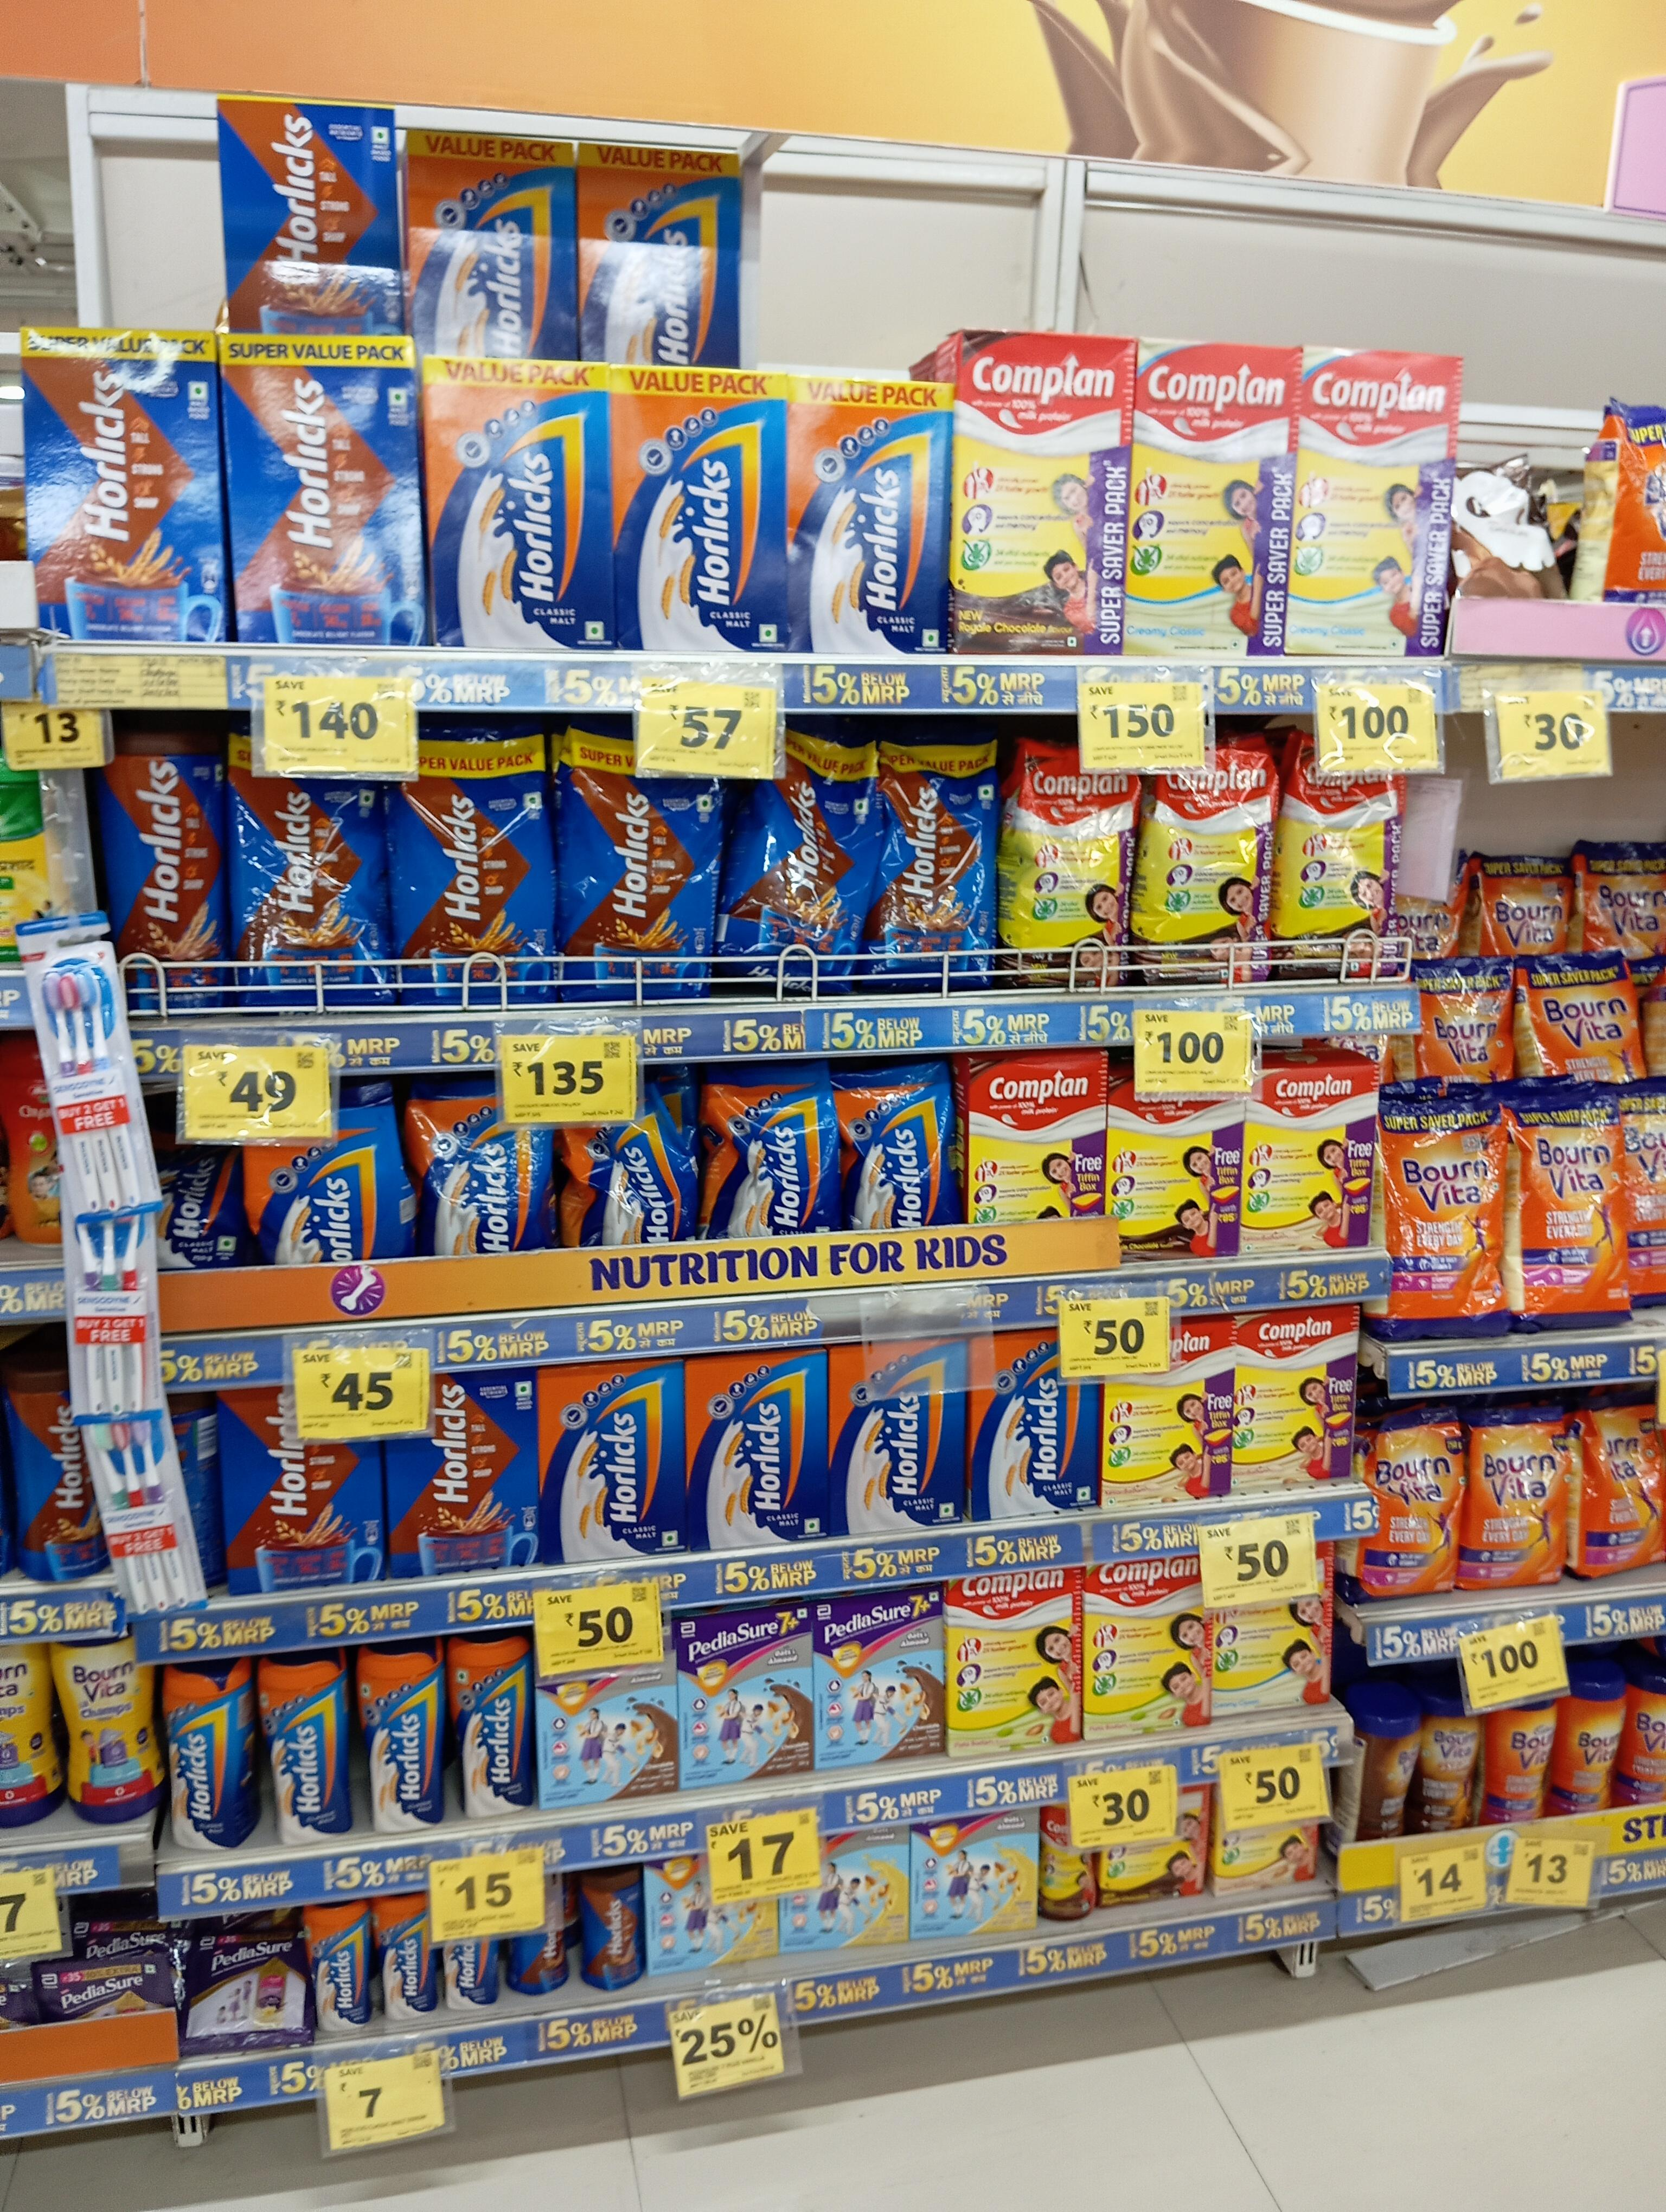BOURN_VITA_1_KG_POUCH: (1383, 1107, 1509, 1341), (1524, 1100, 1629, 1332), (1526, 956, 1638, 1089), (1416, 958, 1517, 1096)
BOURN_VITA_500_G_JAR: (1563, 1670, 1624, 1813), (1500, 1698, 1561, 1822), (1628, 1666, 1666, 1806)
BOURN_VITA_750_G_POUCH: (1466, 1409, 1566, 1589), (1377, 1418, 1461, 1598), (1587, 1394, 1666, 1577)
BOURN_VITA_FIVE_STAR_MAGIC_500_G_JAR: (1421, 1696, 1477, 1831), (1367, 1701, 1421, 1840)
COMPLAN_CHOCOLATE_1_KG_PACK: (954, 329, 1123, 649)
COMPLAN_CHOCOLATE_200_GMS_JAR: (1039, 1803, 1094, 1918)
COMPLAN_CHOCOLATE_500_GMS_PACK: (1113, 1086, 1241, 1263), (973, 1058, 1102, 1222)
COMPLAN_CREAMY_CLASSIC_500_G_PACK: (1216, 1596, 1332, 1719)
COMPLAN_KESAR_BADAM_500_GMS_PACK: (1248, 1068, 1374, 1249), (1106, 1338, 1230, 1504), (1236, 1313, 1349, 1488)
COMPLAN_PISTA_BADAM_500_GMS_PACK: (949, 1572, 1080, 1763), (1085, 1563, 1208, 1735)
COMPLAN_RC_POUCH_700_GMS_12: (1013, 748, 1139, 988), (1148, 754, 1276, 979), (1286, 736, 1402, 983)
HORLICK_CHOCOLATE_1_KG_JAR: (105, 727, 222, 1023)
HORLICK_CHOCOLATE_1_KG_PACK: (23, 327, 217, 642), (221, 336, 415, 642), (217, 96, 399, 334)
HORLICK_CHOCOLATE_200_G_JAR: (579, 1871, 641, 1993)
HORLICK_CHOCOLATE_500_G_JAR: (2, 1362, 96, 1588)
HORLICK_CHOCOLATE_500_G_PACK: (224, 1392, 378, 1598), (392, 1369, 537, 1572)
HORLICK_CHOCOLATE_750_G_POUCH: (397, 722, 544, 1000), (235, 769, 396, 1016), (558, 736, 703, 998), (751, 738, 875, 990), (880, 740, 998, 988)
HORLICK_CLASSIC_MALT_200_G_JAR: (301, 1901, 361, 2039), (373, 1896, 427, 2023)
HORLICK_CLASSIC_MALT_500_G_JAR: (259, 1654, 346, 1850), (357, 1640, 441, 1841), (163, 1661, 247, 1857), (446, 1630, 525, 1820)
HORLICK_CLASSIC_MALT_500_G_PACK: (541, 1364, 683, 1563), (691, 1353, 819, 1549), (831, 1345, 964, 1532), (971, 1334, 1099, 1523)
HORLICK_CLASSIC_MALT_750_G_POUCH: (273, 1105, 406, 1273), (420, 1082, 555, 1247), (712, 1061, 836, 1238), (583, 1075, 696, 1247), (845, 1065, 954, 1228)
PEDIASURE_7_PLUS_CHOCOLATE_400_G_PACK: (679, 1610, 810, 1782), (814, 1596, 941, 1766), (537, 1670, 676, 1801)
